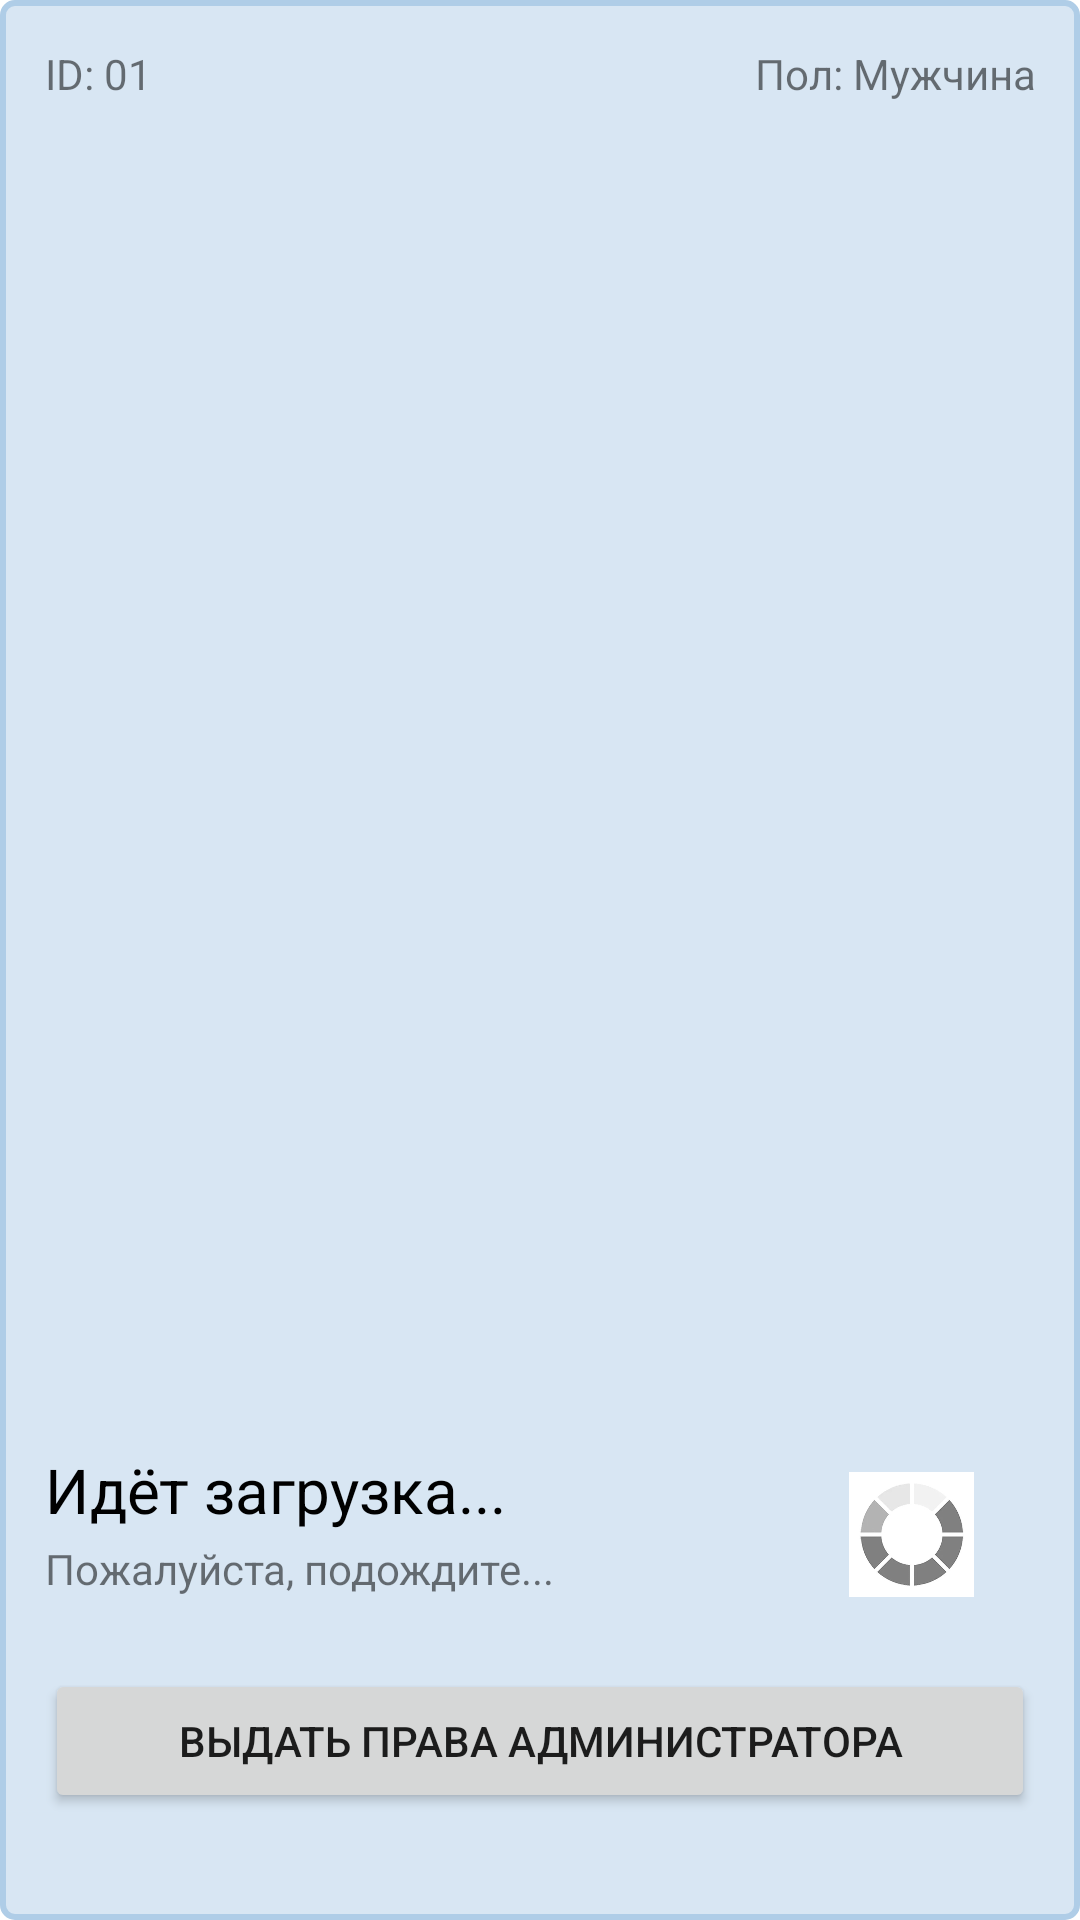

Icon click points for this 1080w x 1920h phone screenshot, format [x,y]:
loading: [911,1534]
